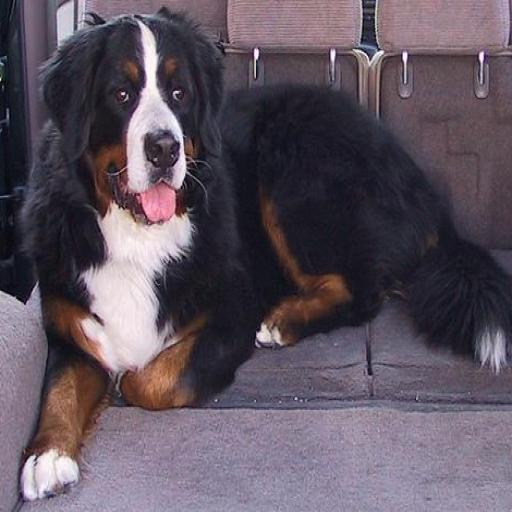dog_face: (43, 10, 222, 220)
